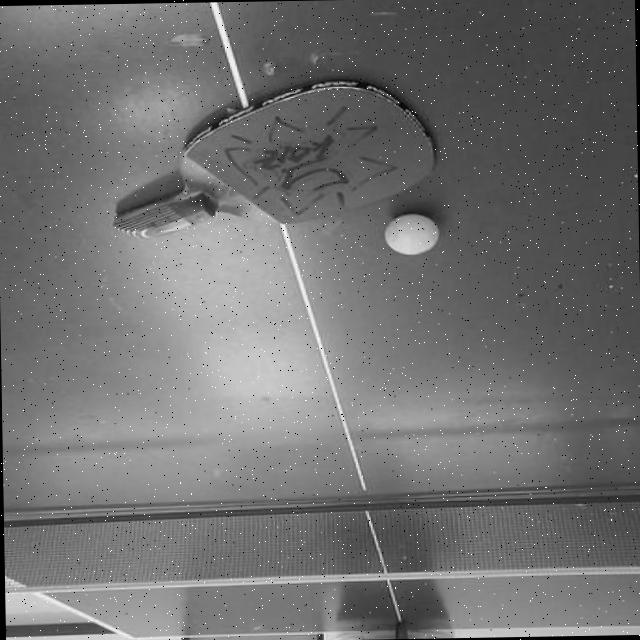ping-pong-ball: (382, 212, 442, 256)
